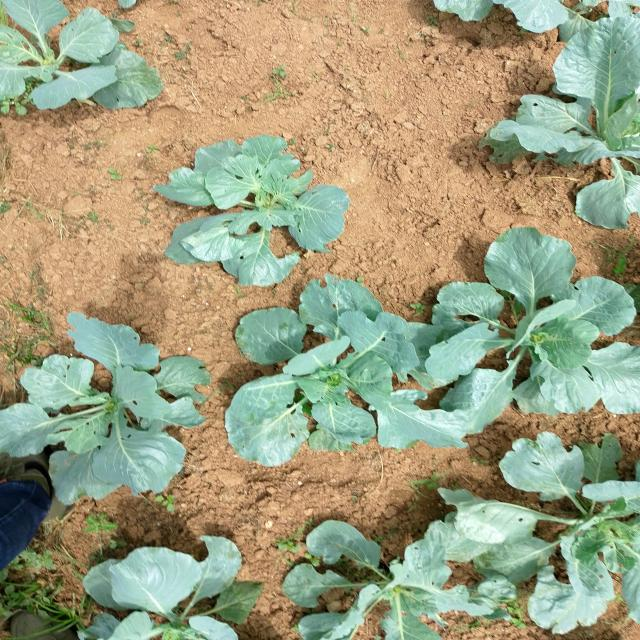Cabbage: (190, 278, 479, 468), (410, 224, 640, 455), (444, 14, 640, 231), (10, 311, 202, 502), (464, 444, 640, 640), (150, 135, 375, 279), (272, 495, 487, 640), (58, 541, 286, 637), (0, 0, 173, 121)
